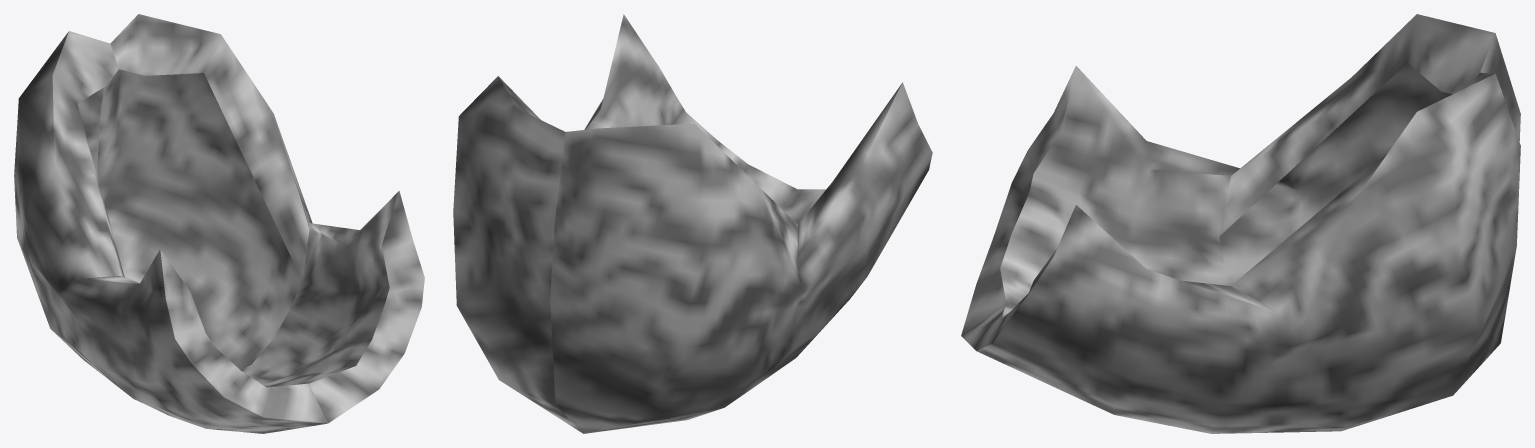
Rendered from Wig_Bob_Hair_GrungeyBehindEar.fbx.
The picture shows the model from 3 angles, left to right: view 1: azimuth 30°, elevation 25°; view 2: azimuth 150°, elevation 25°; view 3: azimuth 270°, elevation 25°; orthographic projection. The views are drawn at different scales.
Parts seen in each view (by area): view 1: BoxOfJars003; view 2: BoxOfJars003; view 3: BoxOfJars003.
Part boxes in pixels (<box>): BoxOfJars003: <box>14,14,424,433</box>; BoxOfJars003: <box>453,14,932,433</box>; BoxOfJars003: <box>961,14,1520,433</box>.
Size of the model in its own units: 12.19 by 13.72 by 19.08.
